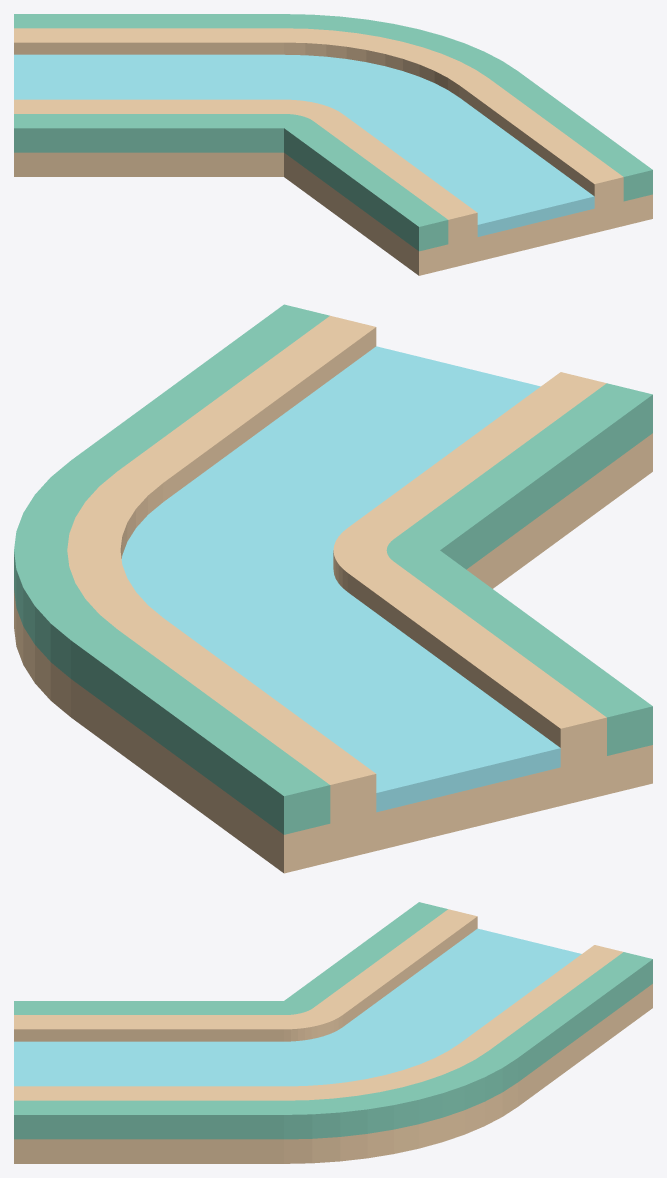
The model's file is tile_riverHexCorner.fbx.
3 renders of one model, top to bottom at view 1: azimuth 30°, elevation 25°; view 2: azimuth 150°, elevation 25°; view 3: azimuth 270°, elevation 25°, orthographic. The views are drawn at different scales.
Visible parts, largest first — view 1: tile_riverStraight.001; view 2: tile_riverStraight.001; view 3: tile_riverStraight.001.
Part boxes in pixels (<box>): tile_riverStraight.001: <box>14,14,652,275</box>; tile_riverStraight.001: <box>14,304,652,873</box>; tile_riverStraight.001: <box>14,902,652,1163</box>.
Size of the model in its own units: 18660 by 2000 by 23660.
